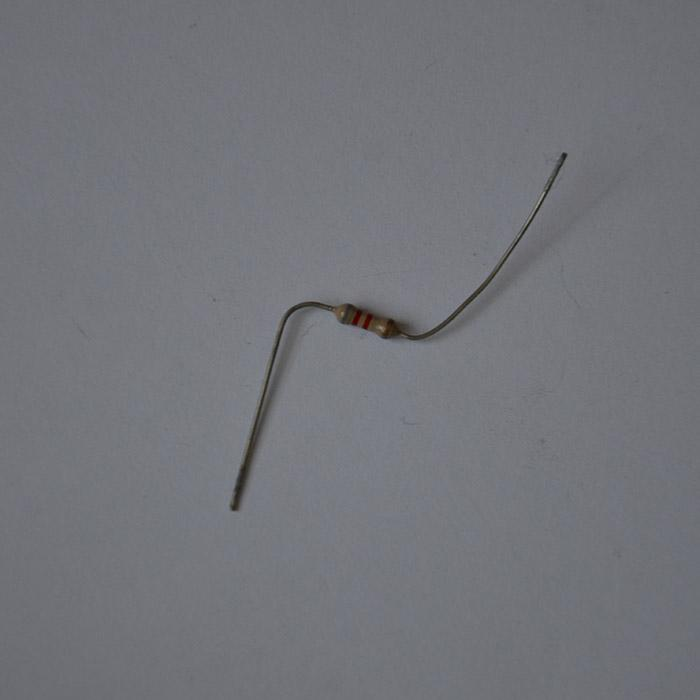resistor: (331, 302, 399, 339)
